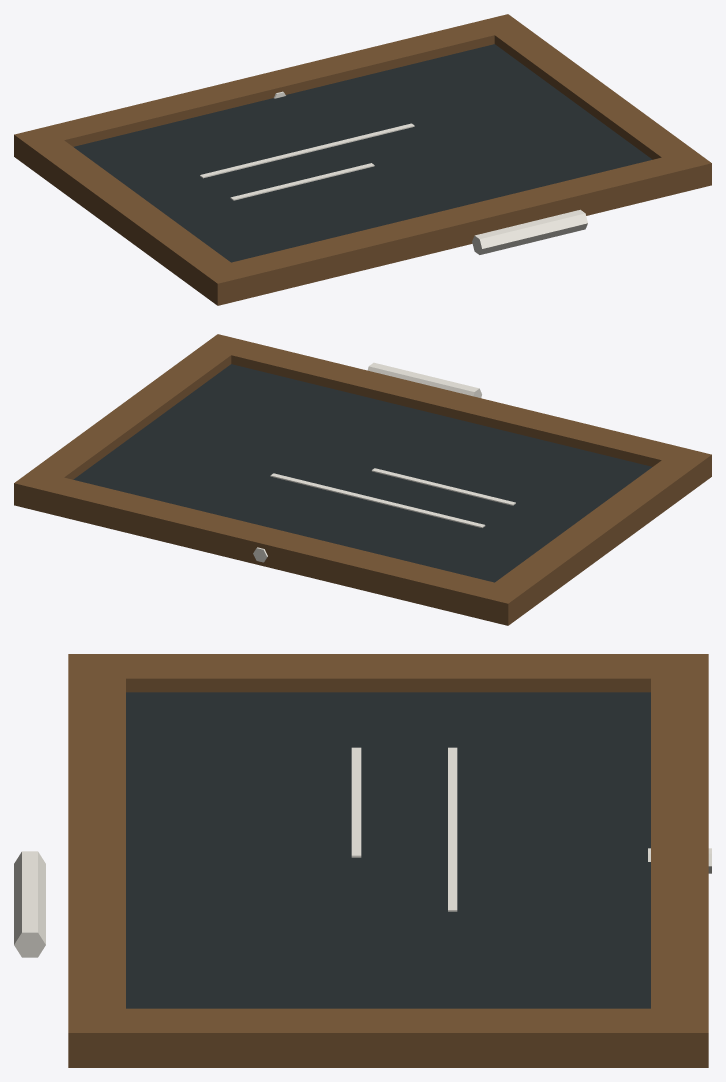
Rendered from Prop_YTM_Slate.glb.
3 views of the same model, one above another, from view 1: azimuth 30°, elevation 25°; view 2: azimuth 150°, elevation 25°; view 3: azimuth 270°, elevation 25° (orthographic). The views are drawn at different scales.
Visible parts, largest first — view 1: Prop_YTM_Slate; view 2: Prop_YTM_Slate; view 3: Prop_YTM_Slate.
Boxes of the visible parts, <box> form: Prop_YTM_Slate: <box>14,14,711,305</box>; Prop_YTM_Slate: <box>14,334,711,625</box>; Prop_YTM_Slate: <box>14,654,711,1067</box>.
Size of what is drawn, in the model's own units: 0.28 by 0.012 by 0.218.
